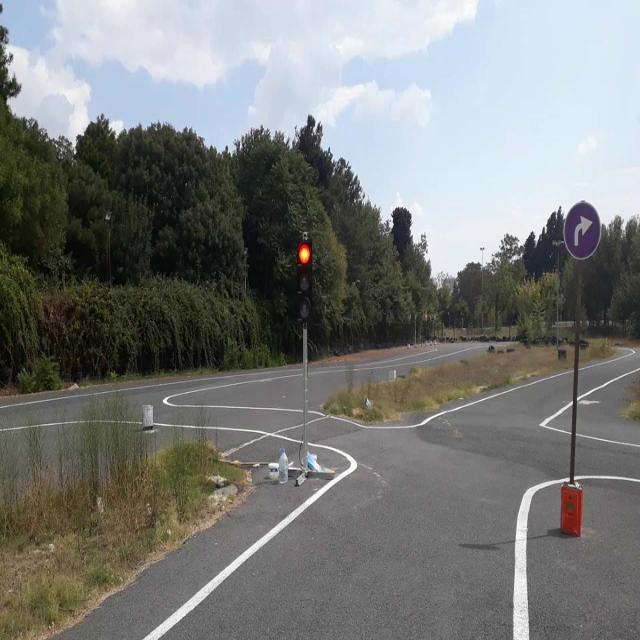kirmizi: (298, 240, 312, 318)
sag: (565, 202, 600, 258)
